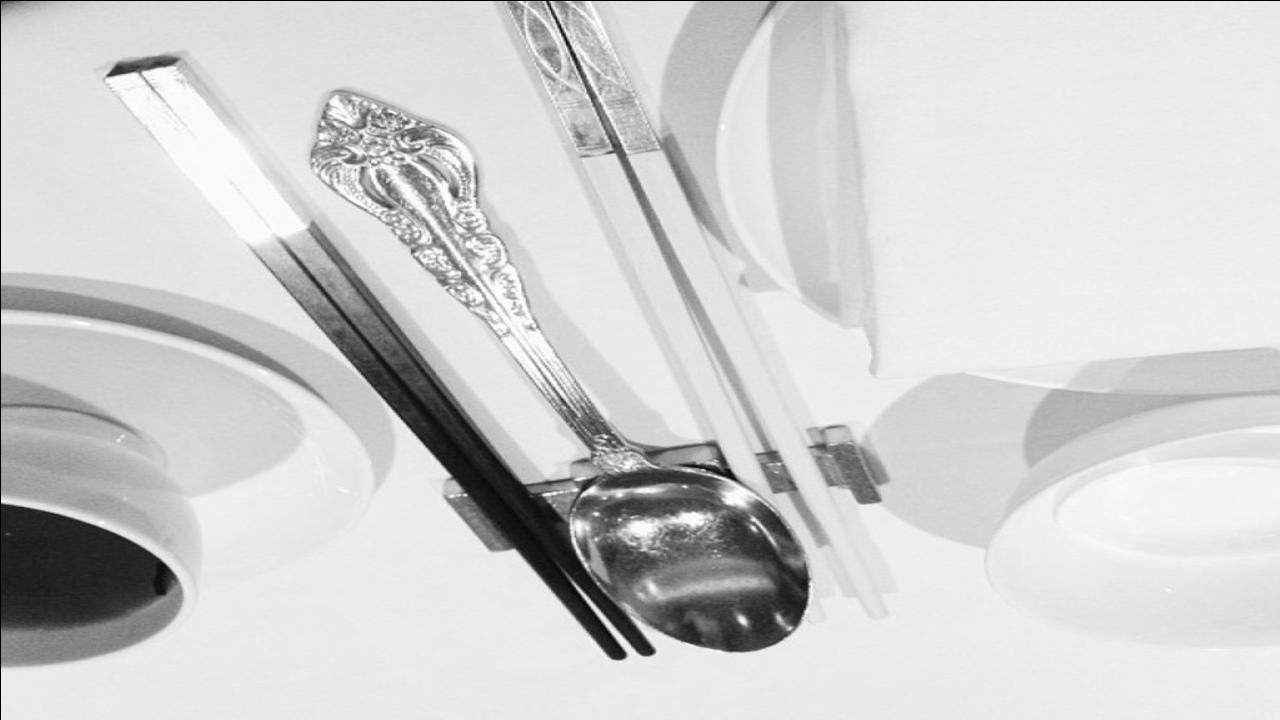chopstick: (110, 58, 652, 654), (488, 0, 886, 624)
